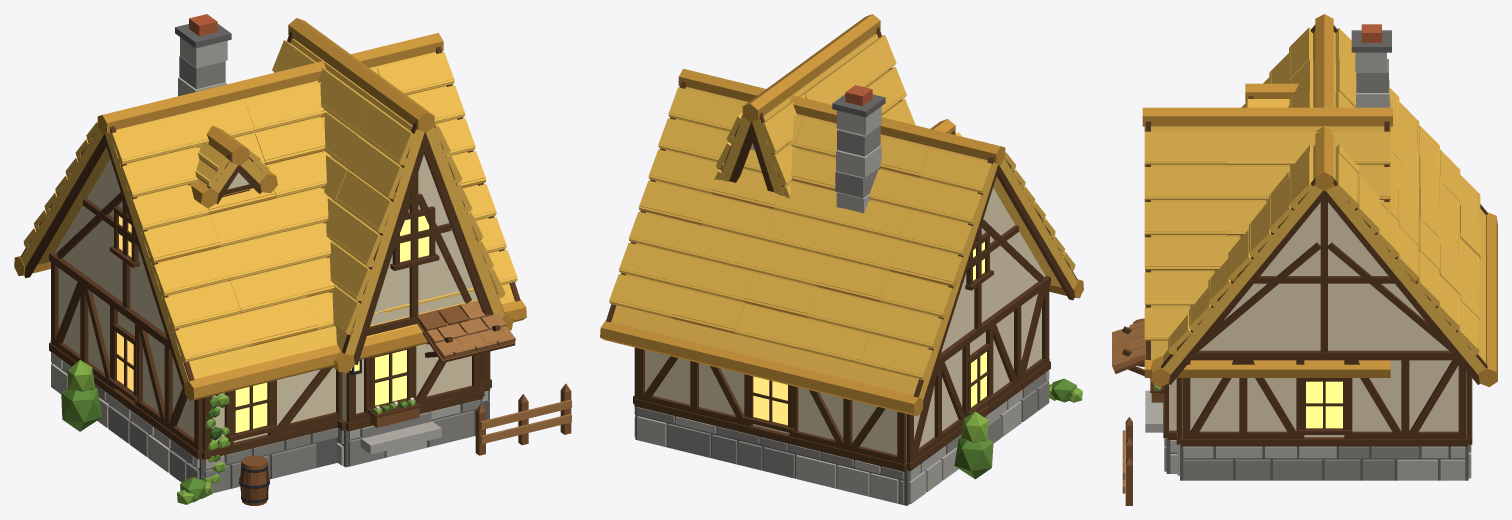
Rendered from Pack_Cottage.fbx.
3 views of the same model, side by side, from view 1: azimuth 30°, elevation 25°; view 2: azimuth 150°, elevation 25°; view 3: azimuth 270°, elevation 25° (orthographic). The views are drawn at different scales.
Parts seen in each view (by area): view 1: Pack_Cottage_LOD0; view 2: Pack_Cottage_LOD0; view 3: Pack_Cottage_LOD0.
Part boxes in pixels (left/top/right/bottom): Pack_Cottage_LOD0: left=14, top=14, right=571, bottom=505; Pack_Cottage_LOD0: left=600, top=14, right=1083, bottom=505; Pack_Cottage_LOD0: left=1112, top=14, right=1497, bottom=505.
Size of what is drawn, in the model's own units: 8.04 by 7.7 by 7.32.
